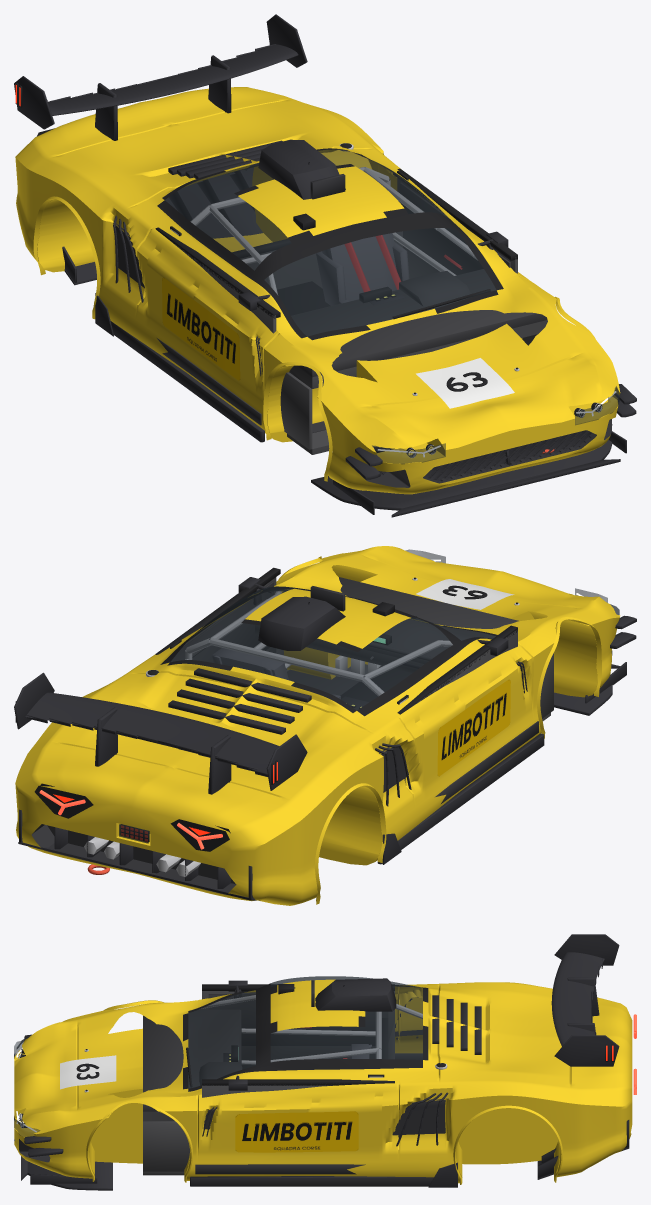
File: limbotiti_caravan.glb
3 views of the same model, one above another, from view 1: azimuth 30°, elevation 25°; view 2: azimuth 150°, elevation 25°; view 3: azimuth 270°, elevation 25° (orthographic). The views are drawn at different scales.
Parts seen in each view (by area): view 1: limbotiti_caravan; view 2: limbotiti_caravan; view 3: limbotiti_caravan.
Boxes of the visible parts, left/top/right/bottom form: limbotiti_caravan: left=14, top=14, right=636, bottom=517; limbotiti_caravan: left=14, top=546, right=636, bottom=905; limbotiti_caravan: left=14, top=934, right=636, bottom=1190.
Bounding box in the file's own units: 2.06 × 1.24 × 4.65.
24 materials, 1 textured.
